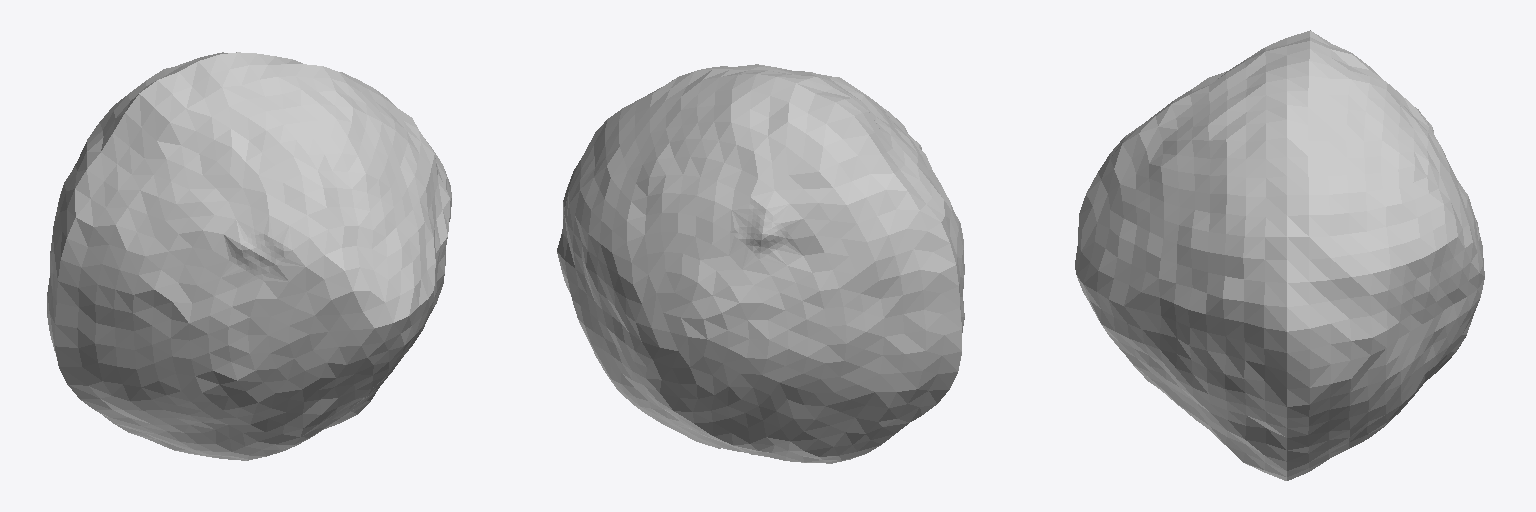
File: Bennu Radar3.obj
The picture shows the model from 3 angles: view 1: azimuth 30°, elevation 25°; view 2: azimuth 150°, elevation 25°; view 3: azimuth 270°, elevation 25°; orthographic projection.
Visible parts, largest first — view 1: Bennu_Radar; view 2: Bennu_Radar; view 3: Bennu_Radar.
Boxes of the visible parts, x1,y1,x2,y2 form: Bennu_Radar: [47, 52, 451, 460]; Bennu_Radar: [557, 64, 964, 463]; Bennu_Radar: [1075, 30, 1484, 480].
Bounding box in the file's own units: 0.5665 × 0.5359 × 0.5088.